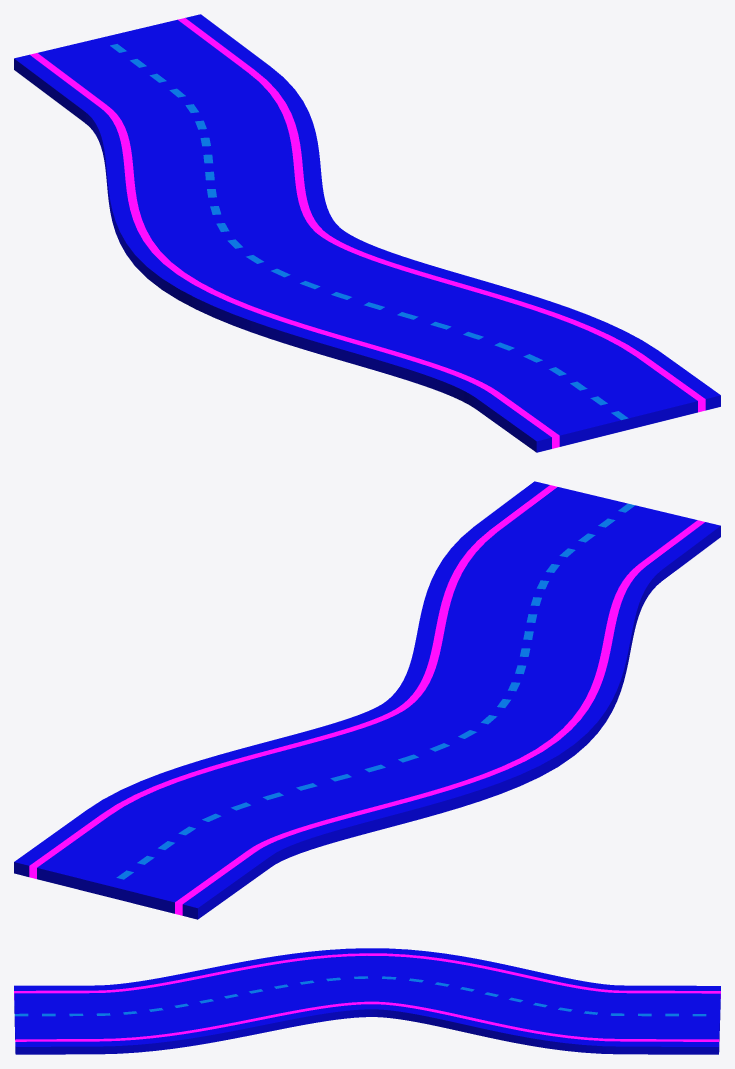
The model's file is curved_road_1.fbx.
The picture shows the model from 3 angles, top to bottom: view 1: azimuth 30°, elevation 25°; view 2: azimuth 150°, elevation 25°; view 3: azimuth 270°, elevation 25°; orthographic projection. The views are drawn at different scales.
Visible parts, largest first — view 1: Box001; view 2: Box001; view 3: Box001.
Boxes of the visible parts, left/top/right/bottom form: Box001: left=14, top=14, right=720, bottom=452; Box001: left=14, top=481, right=720, bottom=919; Box001: left=14, top=948, right=720, bottom=1054.
Size of the model in its own units: 323 by 11.78 by 977.
